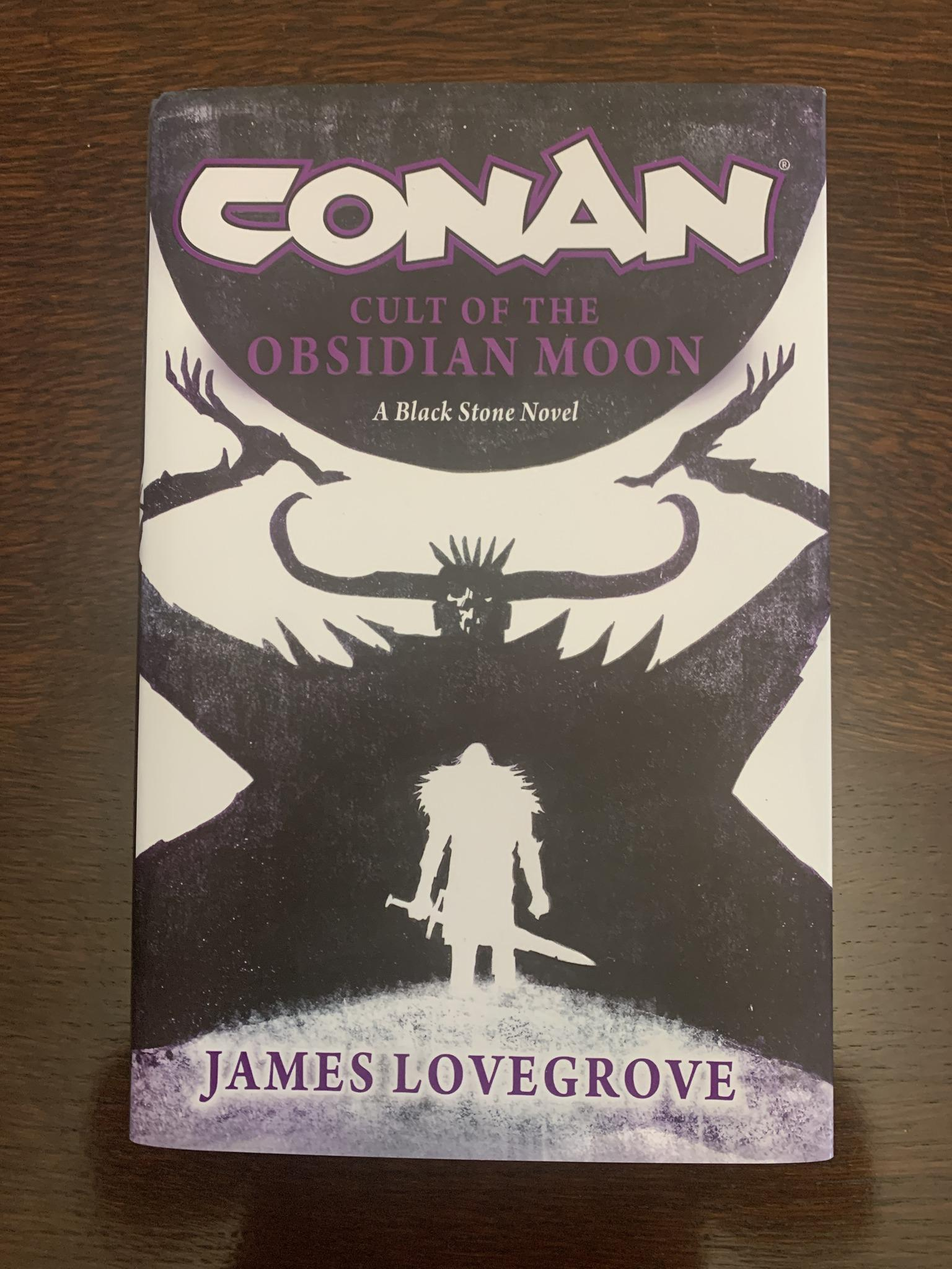comic: (131, 78, 845, 1163)
